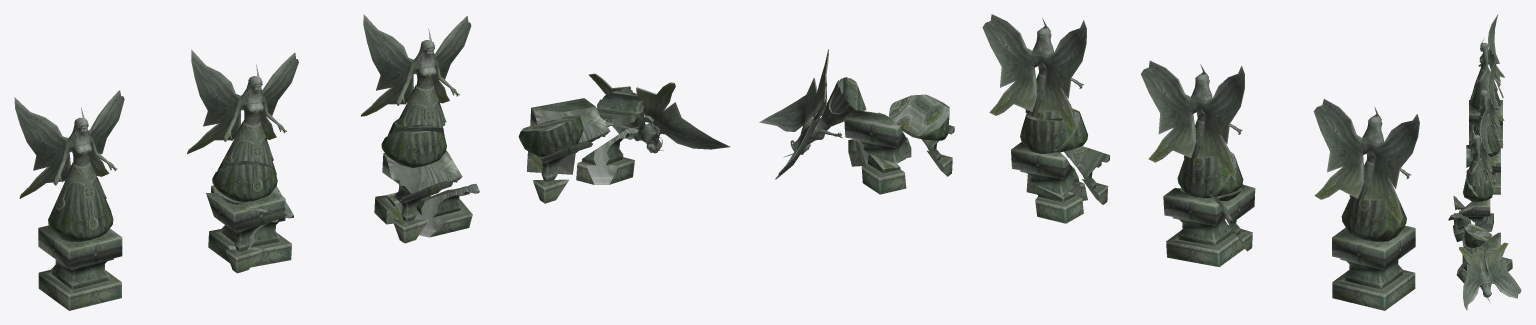
The model's file is Monument_angels.obj.
3 views of the same model, side by side, from view 1: azimuth 30°, elevation 25°; view 2: azimuth 150°, elevation 25°; view 3: azimuth 270°, elevation 25° (orthographic). The views are drawn at different scales.
Parts seen in each view (by area): view 1: Monument_angels03, Monument_angels02, Monument_angels, Monument_angels04; view 2: Monument_angels02, Monument_angels, Monument_angels03, Monument_angels04; view 3: Monument_angels04, Monument_angels03, Monument_angels02, Monument_angels.
Boxes of the visible parts, left/top/right/bottom form: Monument_angels03: left=361, top=14, right=479, bottom=243; Monument_angels02: left=187, top=49, right=298, bottom=273; Monument_angels: left=14, top=90, right=124, bottom=310; Monument_angels04: left=518, top=73, right=729, bottom=203; Monument_angels02: left=1141, top=60, right=1255, bottom=267; Monument_angels: left=1313, top=99, right=1419, bottom=310; Monument_angels03: left=982, top=14, right=1109, bottom=223; Monument_angels04: left=759, top=49, right=954, bottom=194; Monument_angels04: left=1456, top=223, right=1521, bottom=310; Monument_angels03: left=1448, top=104, right=1496, bottom=241; Monument_angels02: left=1466, top=59, right=1504, bottom=194; Monument_angels: left=1469, top=14, right=1504, bottom=148.
Bounding box in the file's own units: 1082 × 316 × 179.
Materials: 4 (4 with a texture image).
